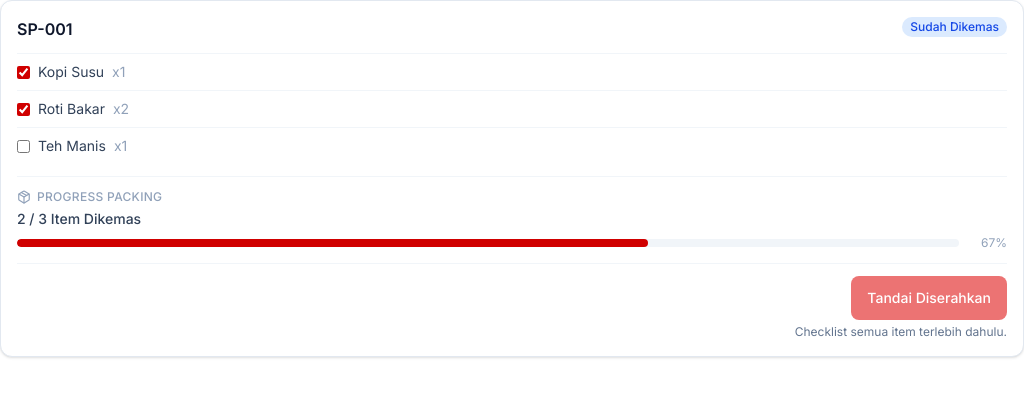
Test case: Checklist/Status gagal -- inline error, bukan window.alert (Task 6) › toggleItem gagal -- TIDAK window.alert, error tampil inline dekat checklist
Click the checkbox labelled "Teh Manis x1". click: coordinates (24, 146)
box: [17,140,30,152]
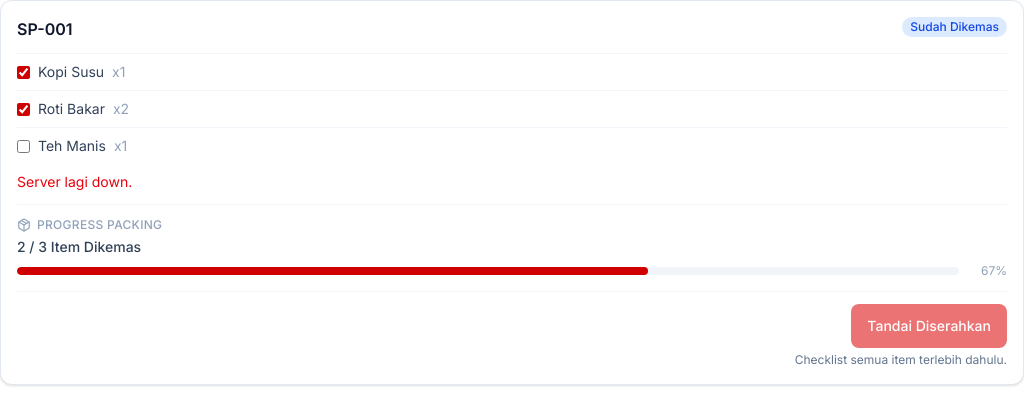
Now the text "Server lagi down." is shown, box [17,173,132,190]
